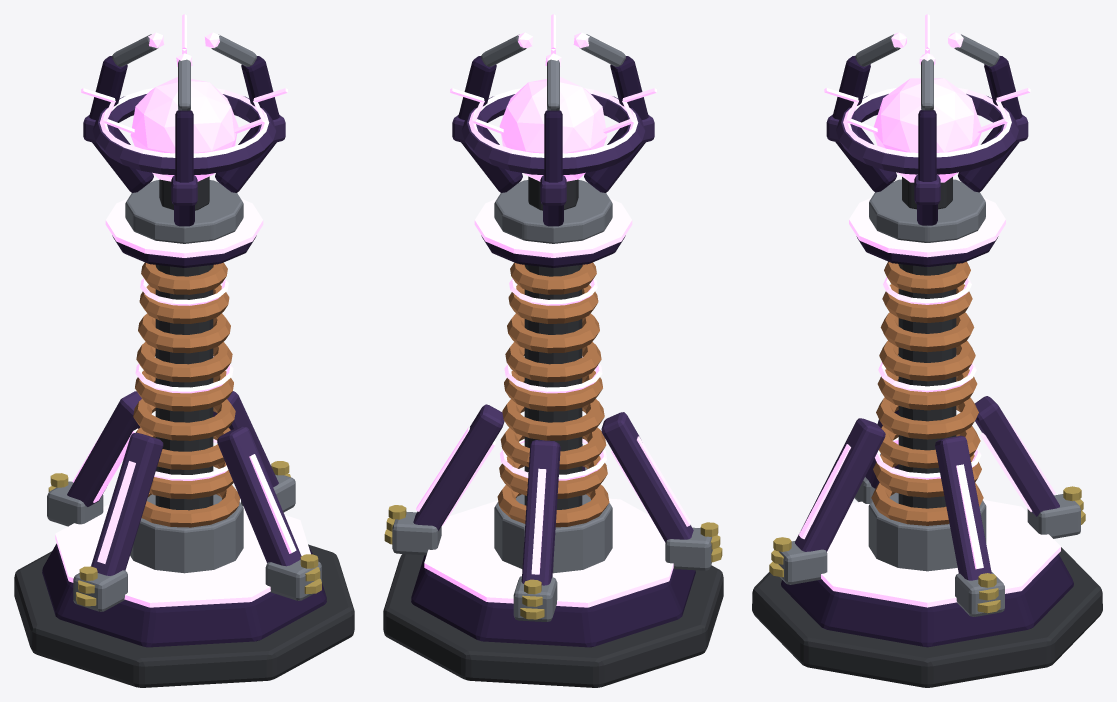
The model's file is torreta_tesla.glb.
3 renders of one model, left to right at view 1: azimuth 30°, elevation 25°; view 2: azimuth 150°, elevation 25°; view 3: azimuth 270°, elevation 25°, orthographic.
Visible parts, largest first — view 1: Base, Pivot; view 2: Base, Pivot; view 3: Base, Pivot.
Part boxes in pixels (x1,y1,x2,y2): Base: [14, 198, 354, 687]; Pivot: [81, 14, 287, 243]; Base: [383, 198, 723, 687]; Pivot: [450, 14, 656, 243]; Base: [752, 198, 1102, 687]; Pivot: [824, 14, 1030, 242].
Bounding box in the file's own units: 2.68 × 4.87 × 2.68.
